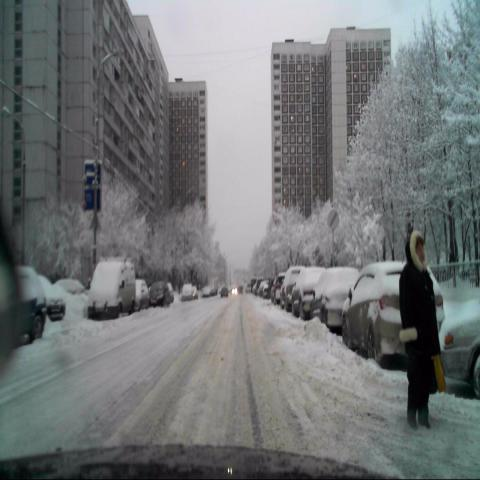3_31: (327, 206, 340, 230)
